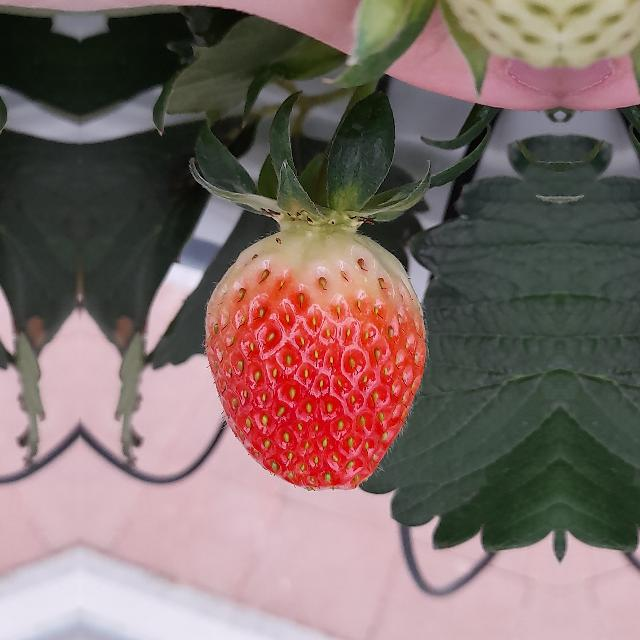Health_100: (205, 231, 425, 491)
